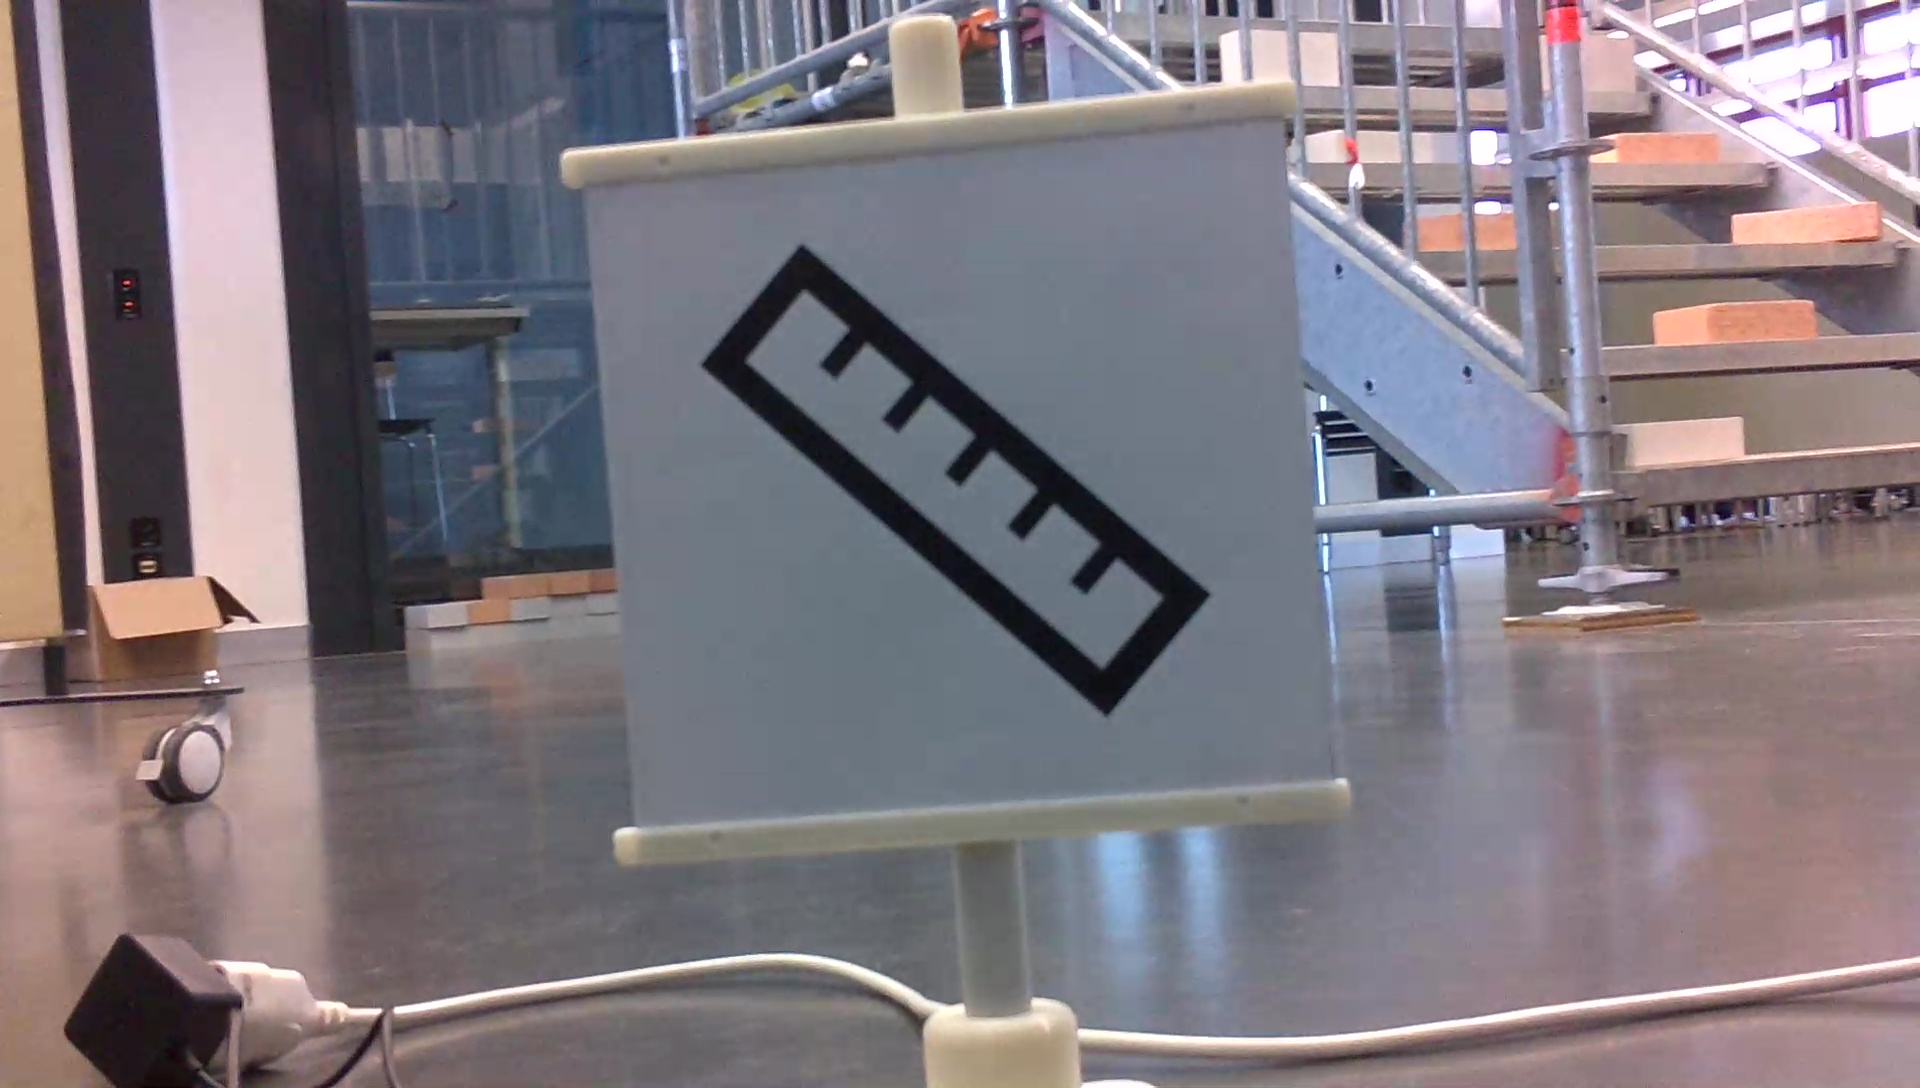brick: (1654, 291, 1821, 348), (1735, 199, 1883, 249), (1631, 411, 1745, 458), (1609, 132, 1717, 166)
edge: (1636, 438, 1920, 516), (1607, 334, 1920, 380), (1586, 244, 1902, 274)
ruler: (690, 222, 1225, 717)
